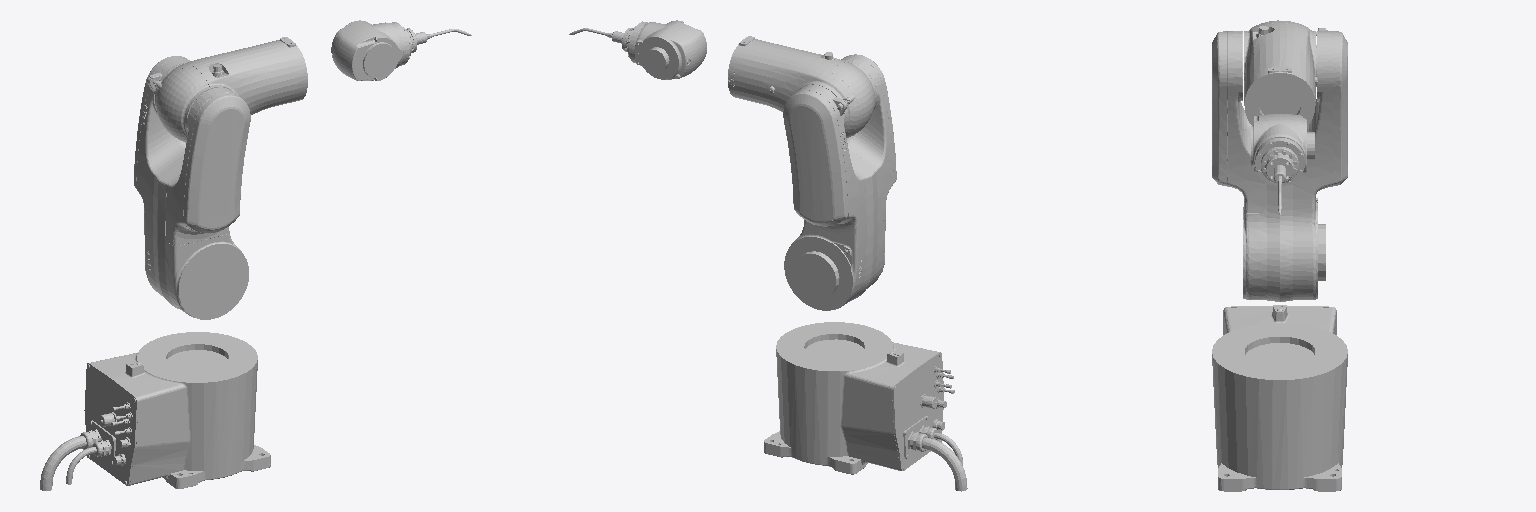
URDF robot description (kuka_kr4_description):
<?xml version="1.0" encoding="utf-8"?>
<!-- This URDF was automatically created by SolidWorks to URDF Exporter! Originally created by [author] ([email redacted]) 
     Commit Version: 1.6.0-4-g7f85cfe  Build Version: 1.6.7995.38578
     For more information, please see http://wiki.ros.org/sw_urdf_exporter -->
<robot
  name="kuka_kr4_description">
  <link
    name="base_link">
    <inertial>
      <origin
        xyz="-0.03685 0.0002444 0.09028"
        rpy="0 0 0" />
      <mass
        value="6.6366" />
      <inertia
        ixx="0.030205"
        ixy="0.00026818"
        ixz="0.00038784"
        iyy="0.049567"
        iyz="7.6324E-05"
        izz="0.047702" />
    </inertial>
    <visual>
      <origin
        xyz="0 0 0"
        rpy="0 0 0" />
      <geometry>
        <mesh
          filename="package://kuka_kr4_description/meshes/base_link.STL" />
      </geometry>
      <material
        name="">
        <color
          rgba="0.8 0.8 0.8 1" />
      </material>
    </visual>
    <collision>
      <origin
        xyz="0 0 0"
        rpy="0 0 0" />
      <geometry>
        <mesh
          filename="package://kuka_kr4_description/meshes/base_link.STL" />
      </geometry>
    </collision>
  </link>
  <link
    name="link1">
    <inertial>
      <origin
        xyz="-0.00398448568107581 -0.00067096355112756 0.093100278125859"
        rpy="0 0 0" />
      <mass
        value="3.49063221731985" />
      <inertia
        ixx="0.0291292834354958"
        ixy="1.52114602604347E-05"
        ixz="-7.357626615347E-05"
        iyy="0.0187991881256857"
        iyz="0.000184294378345892"
        izz="0.0208252540165505" />
    </inertial>
    <visual>
      <origin
        xyz="0 0 0"
        rpy="0 0 0" />
      <geometry>
        <mesh
          filename="package://kuka_kr4_description/meshes/link1.STL" />
      </geometry>
      <material
        name="">
        <color
          rgba="0.8 0.8 0.8 1" />
      </material>
    </visual>
    <collision>
      <origin
        xyz="0 0 0"
        rpy="0 0 0" />
      <geometry>
        <mesh
          filename="package://kuka_kr4_description/meshes/link1.STL" />
      </geometry>
    </collision>
  </link>
  <joint
    name="joint1"
    type="revolute">
    <origin
      xyz="0 0 0.167"
      rpy="0 0 0" />
    <parent
      link="base_link" />
    <child
      link="link1" />
    <axis
      xyz="0 0 1" />
    <limit
      lower="-2.967"
      upper="2.967"
      effort="20"
      velocity="1.5708" />
  </joint>
  <link
    name="link2">
    <inertial>
      <origin
        xyz="-0.0106616717126078 0.000868368474081442 0.117714191465765"
        rpy="0 0 0" />
      <mass
        value="4.73302208355957" />
      <inertia
        ixx="0.0626532219978465"
        ixy="-2.19731763983423E-06"
        ixz="0.00101551284916568"
        iyy="0.0548126850176758"
        iyz="0.000574699493629883"
        izz="0.017086263280392" />
    </inertial>
    <visual>
      <origin
        xyz="0 0 0"
        rpy="0 0 0" />
      <geometry>
        <mesh
          filename="package://kuka_kr4_description/meshes/link2.STL" />
      </geometry>
      <material
        name="">
        <color
          rgba="0.8 0.8 0.8 1" />
      </material>
    </visual>
    <collision>
      <origin
        xyz="0 0 0"
        rpy="0 0 0" />
      <geometry>
        <mesh
          filename="package://kuka_kr4_description/meshes/link2.STL" />
      </geometry>
    </collision>
  </link>
  <joint
    name="join2"
    type="continuous">
    <origin
      xyz="0 0 0.163"
      rpy="0 0 0" />
    <parent
      link="link1" />
    <child
      link="link2" />
    <axis
      xyz="0 1 0" />
    <limit
      lower="0.6981"
      upper="-3.4034"
      effort="20"
      velocity="1.5708" />
  </joint>
  <link
    name="link3">
    <inertial>
      <origin
        xyz="0.0501649529813144 0.000845454485827052 0.00951487802711326"
        rpy="0 0 0" />
      <mass
        value="2.14150525089968" />
      <inertia
        ixx="0.00354767024077412"
        ixy="9.12927767751214E-05"
        ixz="-0.00108987339726161"
        iyy="0.0104347582806017"
        iyz="1.36839124165811E-05"
        izz="0.010047395455273" />
    </inertial>
    <visual>
      <origin
        xyz="0 0 0"
        rpy="0 0 0" />
      <geometry>
        <mesh
          filename="package://kuka_kr4_description/meshes/link3.STL" />
      </geometry>
      <material
        name="">
        <color
          rgba="0.8 0.8 0.8 1" />
      </material>
    </visual>
    <collision>
      <origin
        xyz="0 0 0"
        rpy="0 0 0" />
      <geometry>
        <mesh
          filename="package://kuka_kr4_description/meshes/link3.STL" />
      </geometry>
    </collision>
  </link>
  <joint
    name="joint3"
    type="continuous">
    <origin
      xyz="0 0 0.29"
      rpy="0 0 0" />
    <parent
      link="link2" />
    <child
      link="link3" />
    <axis
      xyz="0 1 0" />
    <limit
      lower="-2.0071"
      upper="2.618"
      effort="20"
      velocity="1.5708" />
  </joint>
  <link
    name="link4">
    <inertial>
      <origin
        xyz="0.0712982652063201 0.00253752461554033 0.00144424815098632"
        rpy="0 0 0" />
      <mass
        value="1.09604091499795" />
      <inertia
        ixx="0.0023155163373801"
        ixy="-0.000262755501630189"
        ixz="2.63780182526531E-05"
        iyy="0.00256904600098361"
        iyz="-4.46903559655569E-05"
        izz="0.00366373717404835" />
    </inertial>
    <visual>
      <origin
        xyz="0 0 0"
        rpy="0 0 0" />
      <geometry>
        <mesh
          filename="package://kuka_kr4_description/meshes/link4.STL" />
      </geometry>
      <material
        name="">
        <color
          rgba="0.8 0.8 0.8 1" />
      </material>
    </visual>
    <collision>
      <origin
        xyz="0 0 0"
        rpy="0 0 0" />
      <geometry>
        <mesh
          filename="package://kuka_kr4_description/meshes/link4.STL" />
      </geometry>
    </collision>
  </link>
  <joint
    name="joint4"
    type="revolute">
    <origin
      xyz="0.162621455617969 0 0.02"
      rpy="0 0 0" />
    <parent
      link="link3" />
    <child
      link="link4" />
    <axis
      xyz="1 0 0" />
    <limit
      lower="-3.2289"
      upper="3.2289"
      effort="20"
      velocity="1.5708" />
  </joint>
  <link
    name="link5">
    <inertial>
      <origin
        xyz="0.0031430242331742 0.000478329635039744 -6.10578971982356E-06"
        rpy="0 0 0" />
      <mass
        value="0.54429927248745" />
      <inertia
        ixx="0.000475716381676683"
        ixy="-5.36620323306413E-06"
        ixz="-1.17376925726156E-07"
        iyy="0.000643393622776597"
        iyz="1.09478982747953E-07"
        izz="0.000685353197300169" />
    </inertial>
    <visual>
      <origin
        xyz="0 0 0"
        rpy="0 0 0" />
      <geometry>
        <mesh
          filename="package://kuka_kr4_description/meshes/link5.STL" />
      </geometry>
      <material
        name="">
        <color
          rgba="0.8 0.8 0.8 1" />
      </material>
    </visual>
    <collision>
      <origin
        xyz="0 0 0"
        rpy="0 0 0" />
      <geometry>
        <mesh
          filename="package://kuka_kr4_description/meshes/link5.STL" />
      </geometry>
    </collision>
  </link>
  <joint
    name="joint5"
    type="continuous">
    <origin
      xyz="0.147378544382031 0 0"
      rpy="0 0 0" />
    <parent
      link="link4" />
    <child
      link="link5" />
    <axis
      xyz="0 1 0" />
    <limit
      lower="-2.0944"
      upper="2.0944"
      effort="20"
      velocity="1.5708" />
  </joint>
  <link
    name="link6">
    <inertial>
      <origin
        xyz="0.0239878191874304 -1.74268620487846E-06 -9.35201072533864E-05"
        rpy="0 0 0" />
      <mass
        value="0.0493367511921157" />
      <inertia
        ixx="1.11742259404243E-05"
        ixy="-7.85265415501748E-10"
        ixz="4.84846069564749E-07"
        iyy="2.46461466077462E-05"
        iyz="7.40670524837086E-12"
        izz="2.45994193786214E-05" />
    </inertial>
    <visual>
      <origin
        xyz="0 0 0"
        rpy="0 0 0" />
      <geometry>
        <mesh
          filename="package://kuka_kr4_description/meshes/link6.STL" />
      </geometry>
      <material
        name="">
        <color
          rgba="0.8 0.8 0.8 1" />
      </material>
    </visual>
    <collision>
      <origin
        xyz="0 0 0"
        rpy="0 0 0" />
      <geometry>
        <mesh
          filename="package://kuka_kr4_description/meshes/link6.STL" />
      </geometry>
    </collision>
  </link>
  <joint
    name="join6"
    type="revolute">
    <origin
      xyz="0.048 0 0"
      rpy="0 0 0" />
    <parent
      link="link5" />
    <child
      link="link6" />
    <axis
      xyz="1 0 0" />
    <limit
      lower="-6.1086"
      upper="6.1086"
      effort="20"
      velocity="3.1416" />
  </joint>
</robot>

--- Render facts (derived) ---
Views: 3 orthographic renders of the robot side by side, from view 1: azimuth 30°, elevation 25°; view 2: azimuth 150°, elevation 25°; view 3: azimuth 270°, elevation 25°.
Model kuka_kr4_description with 7 links and 6 joints (3 revolute, 3 continuous), rooted at base_link, posed all joints at 0.
Visible links, largest first — view 1: base_link, link2, link3, link5; view 2: base_link, link2, link3, link5; view 3: base_link, link2, link3, link5, link6.
Link boxes in pixels (box(x1,y1,x2,y2)): base_link: box(40, 332, 270, 490); link2: box(134, 56, 250, 319); link3: box(155, 37, 307, 142); link5: box(331, 20, 409, 80); base_link: box(764, 322, 967, 491); link2: box(783, 54, 896, 310); link3: box(728, 36, 876, 137); link5: box(628, 20, 706, 79); base_link: box(1212, 305, 1347, 491); link2: box(1212, 28, 1347, 301); link3: box(1244, 20, 1317, 126); link5: box(1251, 114, 1314, 185); link6: box(1261, 147, 1298, 214).
Size in the robot's own frame: 0.7705 by 0.1923 by 0.6981 metres.
Meshes: 7 distinct files referenced, 5 mesh visuals loaded (5 binary STL); not drawn: 2 (reference not matched to a file when rendering).